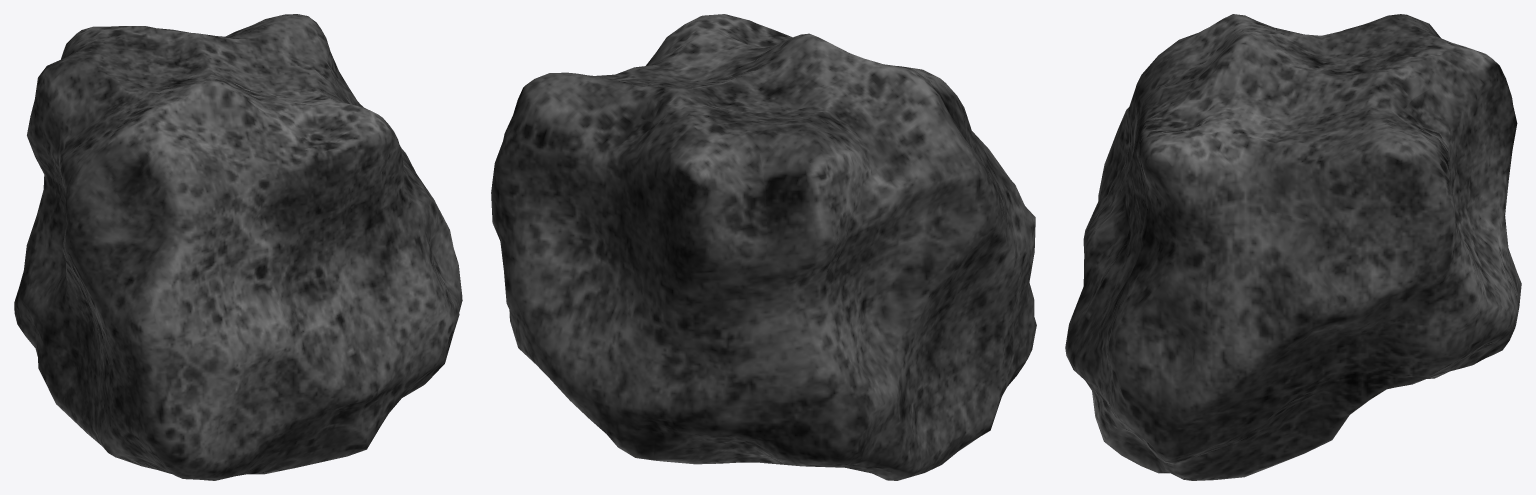
File: Asteroid_1.fbx
3 views of the same model, side by side, from view 1: azimuth 30°, elevation 25°; view 2: azimuth 150°, elevation 25°; view 3: azimuth 270°, elevation 25° (orthographic). The views are drawn at different scales.
Visible parts, largest first — view 1: Asteroid_no_1; view 2: Asteroid_no_1; view 3: Asteroid_no_1.
Boxes of the visible parts, left/top/right/bottom form: Asteroid_no_1: left=14, top=14, right=462, bottom=480; Asteroid_no_1: left=491, top=14, right=1036, bottom=480; Asteroid_no_1: left=1065, top=14, right=1521, bottom=480.
Bounding box in the file's own units: 859 × 811 × 844.
Materials: 1 (1 with a texture image).
